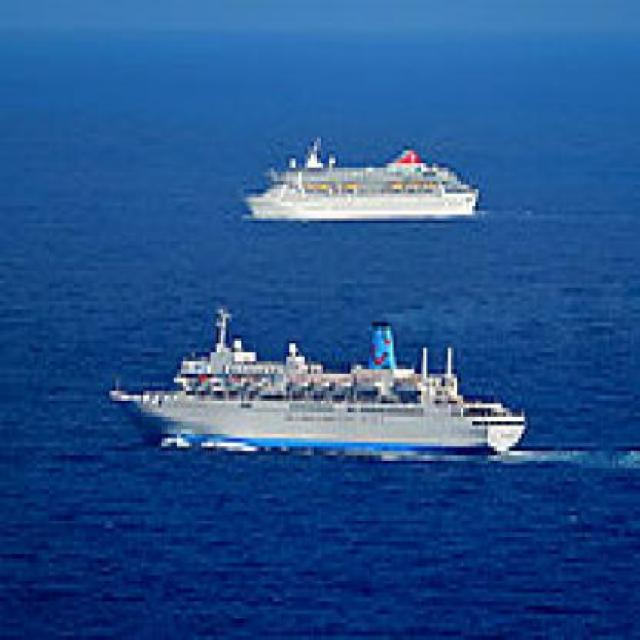cruise: (105, 302, 546, 474), (239, 126, 485, 229)
